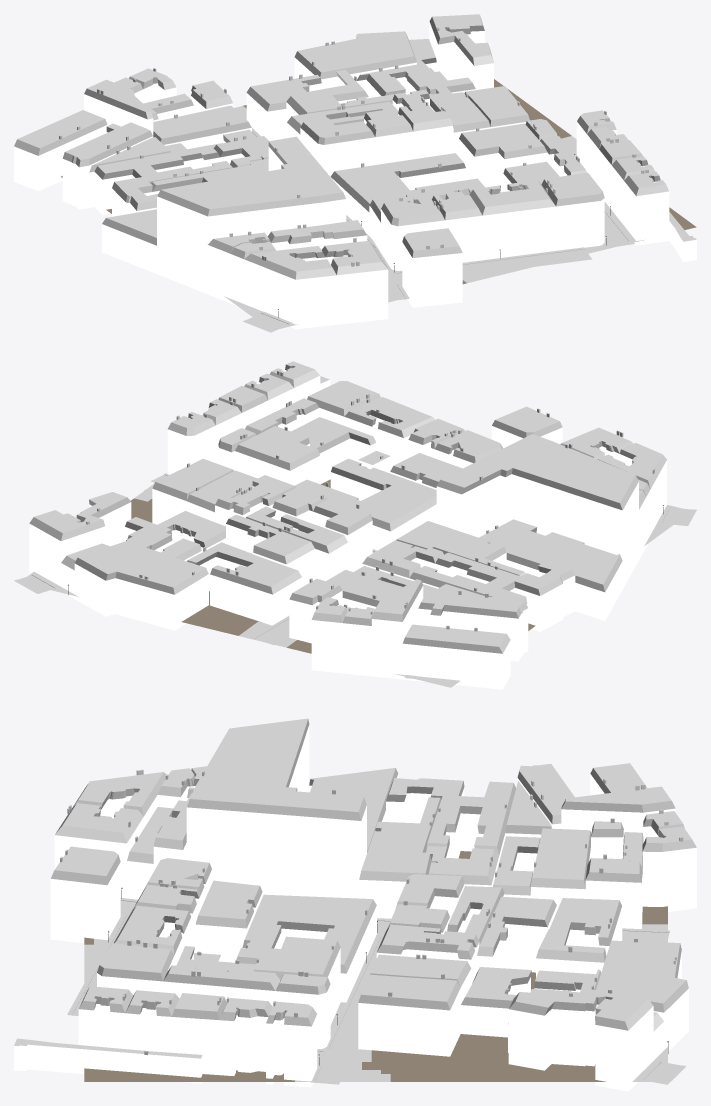
File: zone_G1.glb
3 renders of one model, top to bottom at view 1: azimuth 30°, elevation 25°; view 2: azimuth 150°, elevation 25°; view 3: azimuth 270°, elevation 25°, orthographic. The views are drawn at different scales.
Parts seen in each view (by area): view 1: zone_G1_batiments, zone_G1_sol_NOCOL, zone_G1_terrain; view 2: zone_G1_batiments, zone_G1_terrain, zone_G1_sol_NOCOL; view 3: zone_G1_batiments, zone_G1_terrain, zone_G1_sol_NOCOL.
Boxes of the visible parts, box(x1,y1,x2,y2) form: zone_G1_batiments: box(14, 14, 696, 329); zone_G1_sol_NOCOL: box(243, 128, 634, 332); zone_G1_terrain: box(61, 79, 696, 328); zone_G1_batiments: box(29, 361, 666, 689); zone_G1_terrain: box(27, 479, 681, 687); zone_G1_sol_NOCOL: box(14, 473, 696, 678); zone_G1_batiments: box(14, 718, 696, 1091); zone_G1_terrain: box(84, 851, 667, 1081); zone_G1_sol_NOCOL: box(67, 898, 686, 1084).
Bounding box in the file's own units: 210 × 36.96 × 214.
